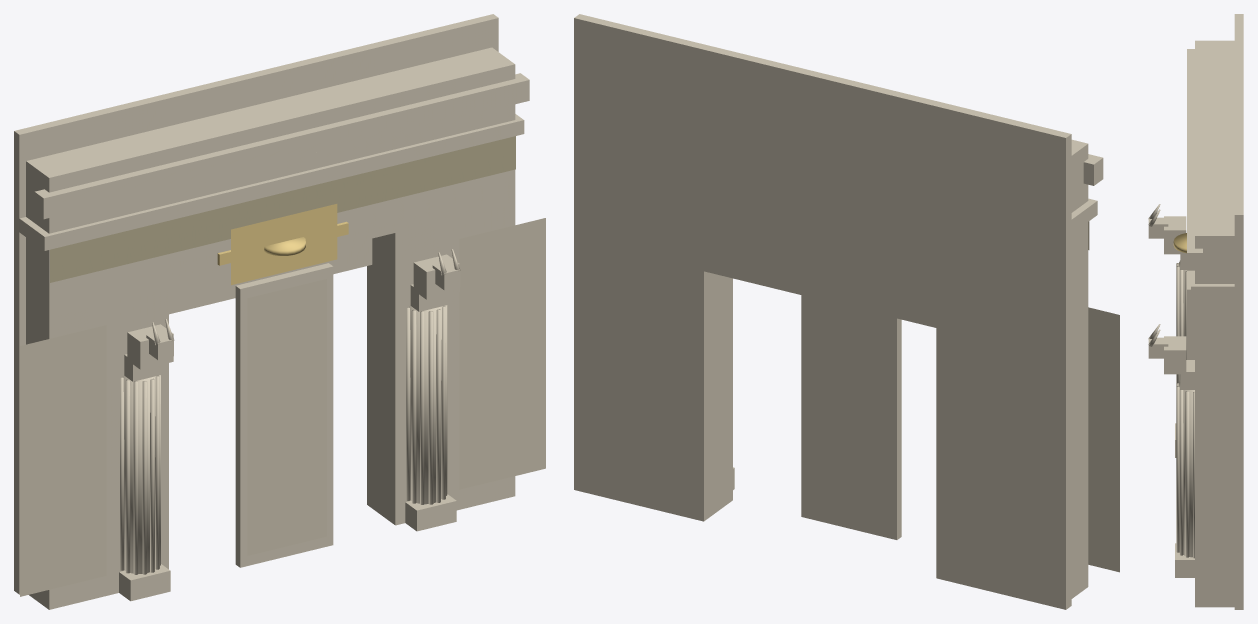
The model's file is persia.glb.
The picture shows the model from 3 angles, left to right: view 1: azimuth 30°, elevation 25°; view 2: azimuth 150°, elevation 25°; view 3: azimuth 270°, elevation 25°; orthographic projection. The views are drawn at different scales.
Visible parts, largest first — view 1: Stone_field, Relief_guardL, Relief_guardR, Relief_field, Stone_shoulderR, Stone_shoulderL, Band_frieze, Stone_lintel, Stone_beam, Stone_backHdr, Stone_cornice, Stone_backL (+21 smaller); view 2: Stone_backL, Stone_backR, Stone_backHdr, Stone_relframe, Relief_guardL, Stone_shoulderL, Stone_shoulderR, Stone_field; view 3: Stone_shoulderR, Stone_field, Stone_backR, Stone_beam, Stone_shaftcore.001, Stone_lintel, Stone_backHdr, Stone_bullbody.002, Stone_flute.027, Stone_flute.026, Stone_cornice, Stone_flute.025 (+13 smaller).
Boxes of the visible parts, box(x1,y1,x2,y2) form: Stone_field: box(26, 47, 515, 233); Relief_guardL: box(20, 325, 106, 596); Relief_guardR: box(459, 218, 545, 489); Relief_field: box(247, 279, 326, 555); Stone_shoulderR: box(372, 64, 515, 525); Stone_shoulderL: box(26, 149, 168, 609); Band_frieze: box(50, 136, 515, 282); Stone_lintel: box(26, 170, 515, 316); Stone_beam: box(34, 73, 529, 219); Stone_backHdr: box(141, 45, 372, 314); Stone_cornice: box(19, 114, 524, 250); Stone_backL: box(14, 100, 145, 594); Stone_backL: box(936, 102, 1071, 609); Stone_backR: box(574, 14, 709, 521); Stone_backHdr: box(704, 45, 941, 327); Stone_relframe: box(801, 295, 901, 539); Relief_guardL: box(1088, 307, 1119, 572); Stone_shoulderL: box(1071, 145, 1088, 598); Stone_shoulderR: box(709, 272, 732, 517); Stone_field: box(1071, 139, 1088, 212); Stone_shoulderR: box(1195, 236, 1234, 607); Stone_field: box(1195, 40, 1234, 283); Stone_backR: box(1234, 162, 1243, 609); Stone_beam: box(1187, 49, 1202, 270); Stone_shaftcore.001: box(1178, 381, 1194, 557); Stone_lintel: box(1195, 326, 1234, 355); Stone_backHdr: box(1234, 67, 1243, 161); Stone_bullbody.002: box(1164, 336, 1186, 374); Stone_flute.027: box(1185, 391, 1189, 557); Stone_flute.026: box(1179, 389, 1183, 555); Stone_cornice: box(1191, 270, 1236, 298); Stone_flute.025: box(1176, 386, 1179, 552).
Size of the model in its own units: 7.9 by 6.6 by 1.45.
